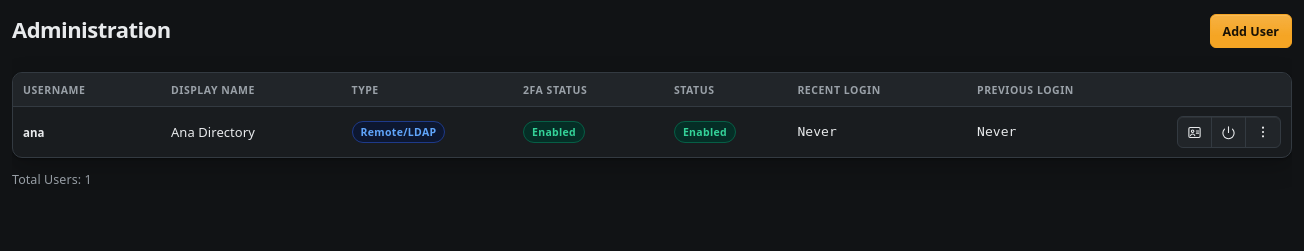
Users: the table › an LDAP user is offered clearing the 2FA but NOT a password reset (auth.js:1195-1205)
This screenshot has width=1304, height=251.
Click the button named "Actions for ". click: (1263, 132)
box: left=1246, top=117, right=1280, bottom=147
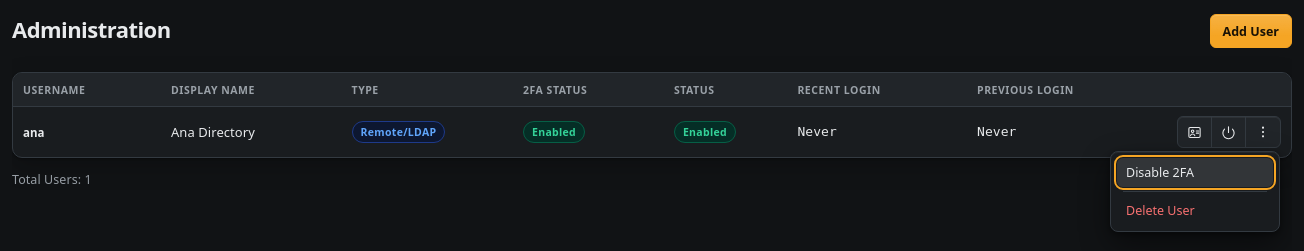
Now the menu item "Disable 2FA" is shown, box left=1117, top=158, right=1273, bottom=187
